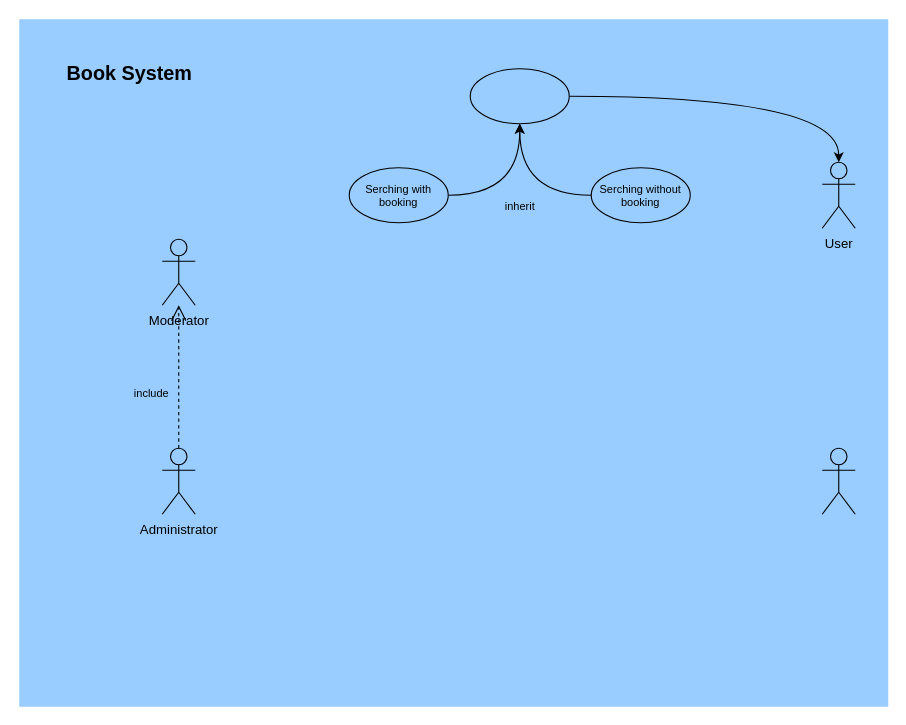
Some shapes in this 906 by 725 pixel diagram are drawn without their labels. The shapes that lost their labels are listed below. From the top down, each one's centre as x and y in pixels, then its label:
At [519,96]: "Serching room".
At [838,480]: "HotelOwner".
